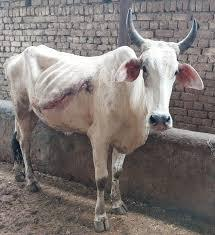cut: (22, 71, 102, 133)
